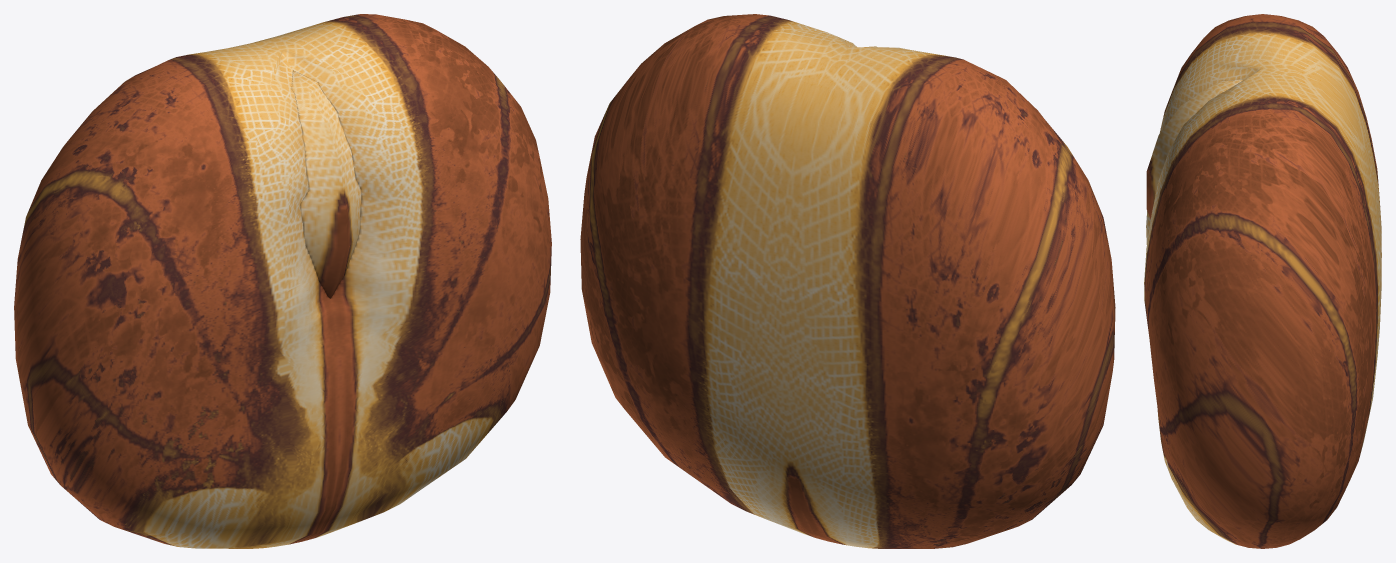
Rendered from Bseed.fbx.
3 renders of one model, left to right at view 1: azimuth 30°, elevation 25°; view 2: azimuth 150°, elevation 25°; view 3: azimuth 270°, elevation 25°, orthographic. The views are drawn at different scales.
Parts seen in each view (by area): view 1: Bseed; view 2: Bseed; view 3: Bseed.
Part boxes in pixels (x1,y1,x2,y2): Bseed: (14,14,551,548); Bseed: (580,14,1115,548); Bseed: (1144,14,1381,548).
Bounding box in the file's own units: 150 × 139 × 66.23.
